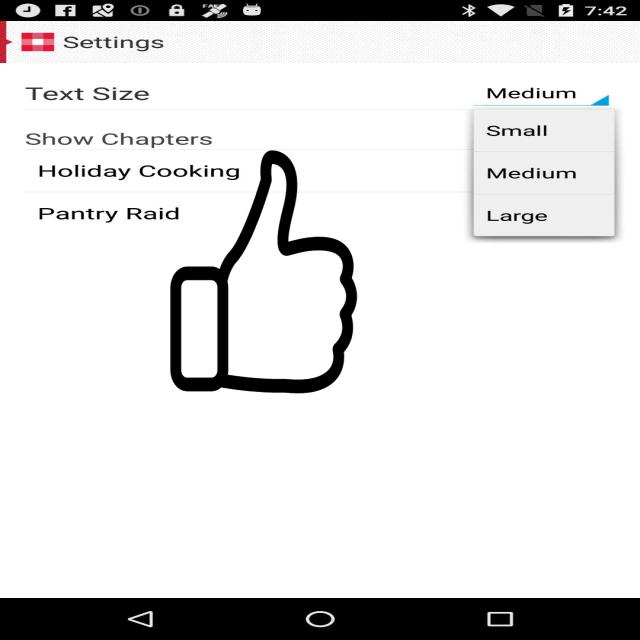privacy zuckering: (168, 150, 360, 394)
